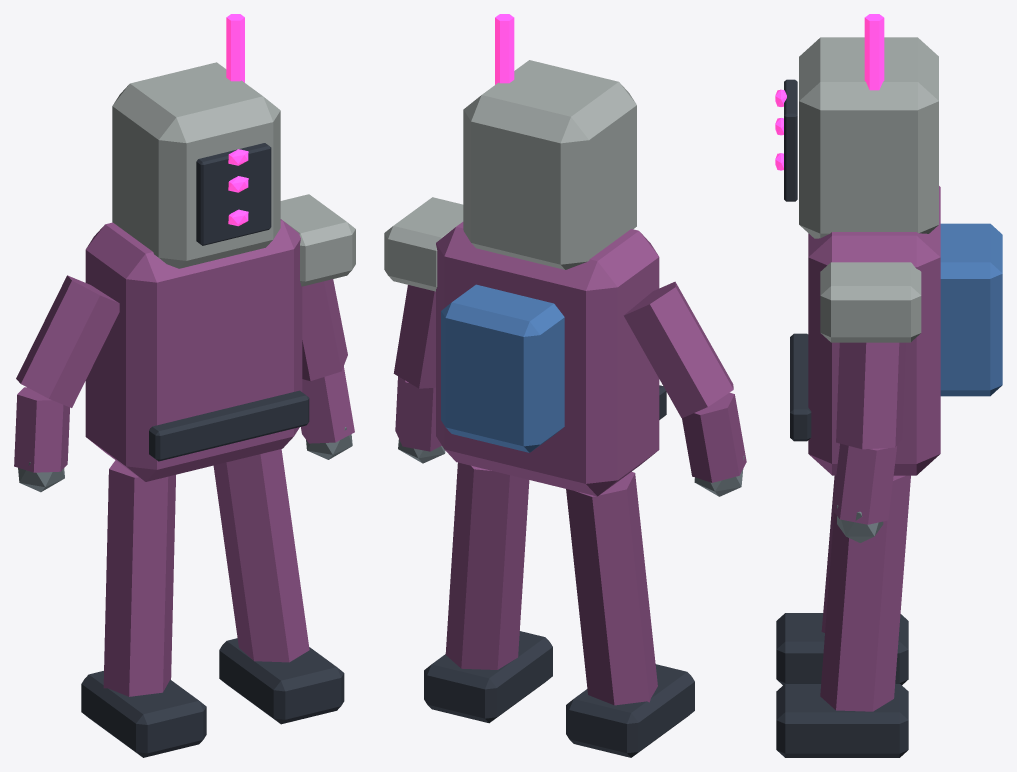
The model's file is npcs_006_seed78877.glb.
The picture shows the model from 3 angles, left to right: view 1: azimuth 30°, elevation 25°; view 2: azimuth 150°, elevation 25°; view 3: azimuth 270°, elevation 25°; orthographic projection. The views are drawn at different scales.
Parts seen in each view (by area): view 1: npcs_006_seed78877; view 2: npcs_006_seed78877; view 3: npcs_006_seed78877.
Part boxes in pixels (<box>): npcs_006_seed78877: <box>14,14,355,757</box>; npcs_006_seed78877: <box>384,14,746,757</box>; npcs_006_seed78877: <box>775,14,1002,757</box>.
Size of the model in its own units: 1.14 by 2.21 by 0.6415.
